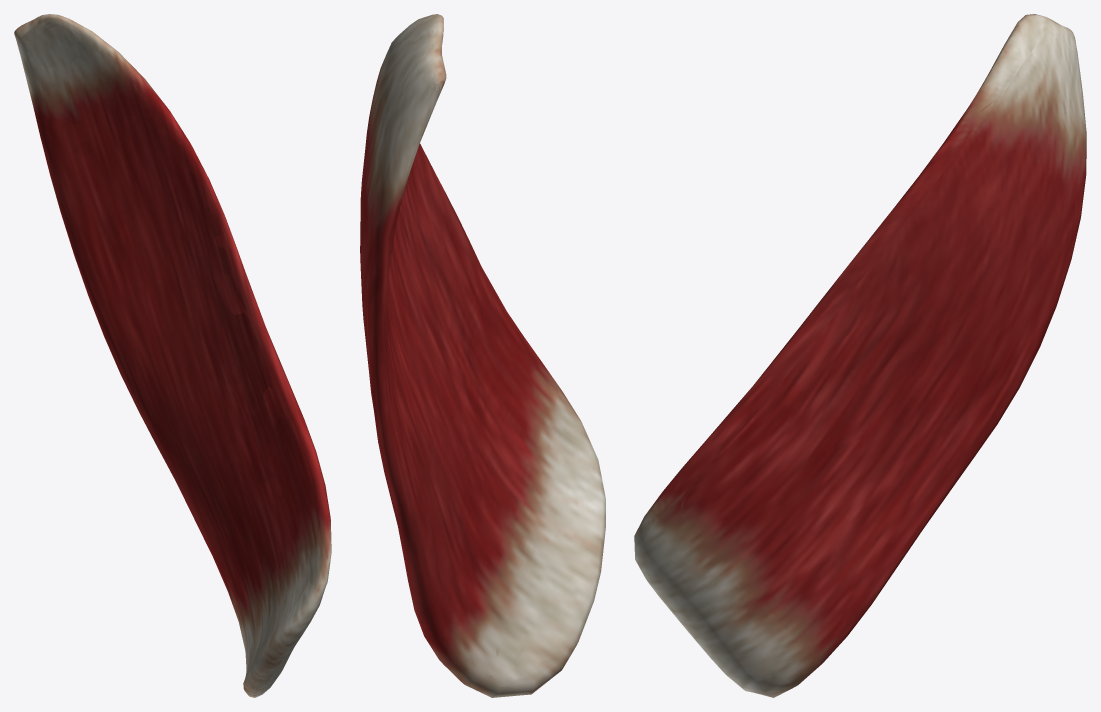
Rendered from L Biceps Femoris.fbx.
3 views of the same model, side by side, from view 1: azimuth 30°, elevation 25°; view 2: azimuth 150°, elevation 25°; view 3: azimuth 270°, elevation 25° (orthographic). The views are drawn at different scales.
Parts seen in each view (by area): view 1: L Biceps Femoris high, L Biceps Femoris low, L Biceps Femoris; view 2: L Biceps Femoris high, L Biceps Femoris, L Biceps Femoris low; view 3: L Biceps Femoris, L Biceps Femoris low, L Biceps Femoris high.
Part boxes in pixels (x1,y1,x2,y2): L Biceps Femoris high: (15,17,330,691); L Biceps Femoris low: (16,14,330,694); L Biceps Femoris: (14,14,331,697); L Biceps Femoris high: (360,26,597,694); L Biceps Femoris: (360,14,605,697); L Biceps Femoris low: (361,14,605,697); L Biceps Femoris: (634,14,1086,697); L Biceps Femoris low: (635,15,1086,696); L Biceps Femoris high: (639,18,1085,693).
Size of the model in its own units: 2.63 by 11.32 by 7.23.
